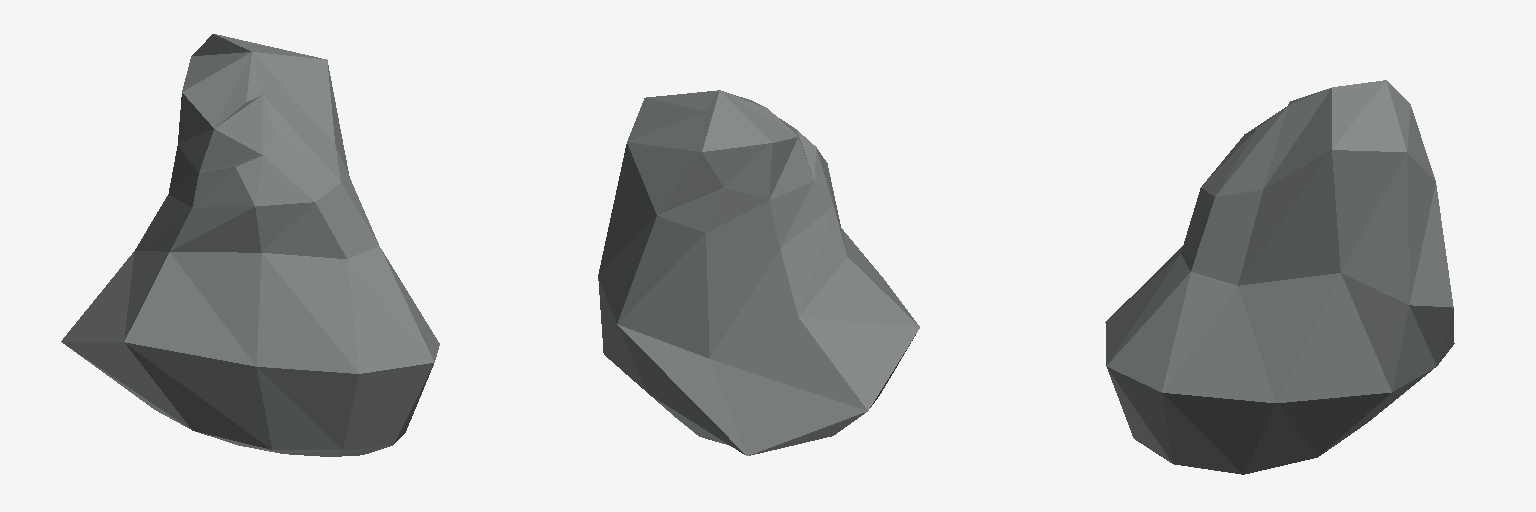
The picture shows the model from 3 angles: view 1: azimuth 30°, elevation 25°; view 2: azimuth 150°, elevation 25°; view 3: azimuth 270°, elevation 25°; orthographic projection.
Visible parts, largest first — view 1: copper_vein; view 2: copper_vein; view 3: copper_vein.
Part boxes in pixels (left/top/right/bottom): copper_vein: left=61, top=34, right=439, bottom=456; copper_vein: left=598, top=90, right=919, bottom=455; copper_vein: left=1105, top=80, right=1454, bottom=474.
Size of the model in its own units: 5.22 by 6.11 by 5.34.
1 materials, 1 textured.